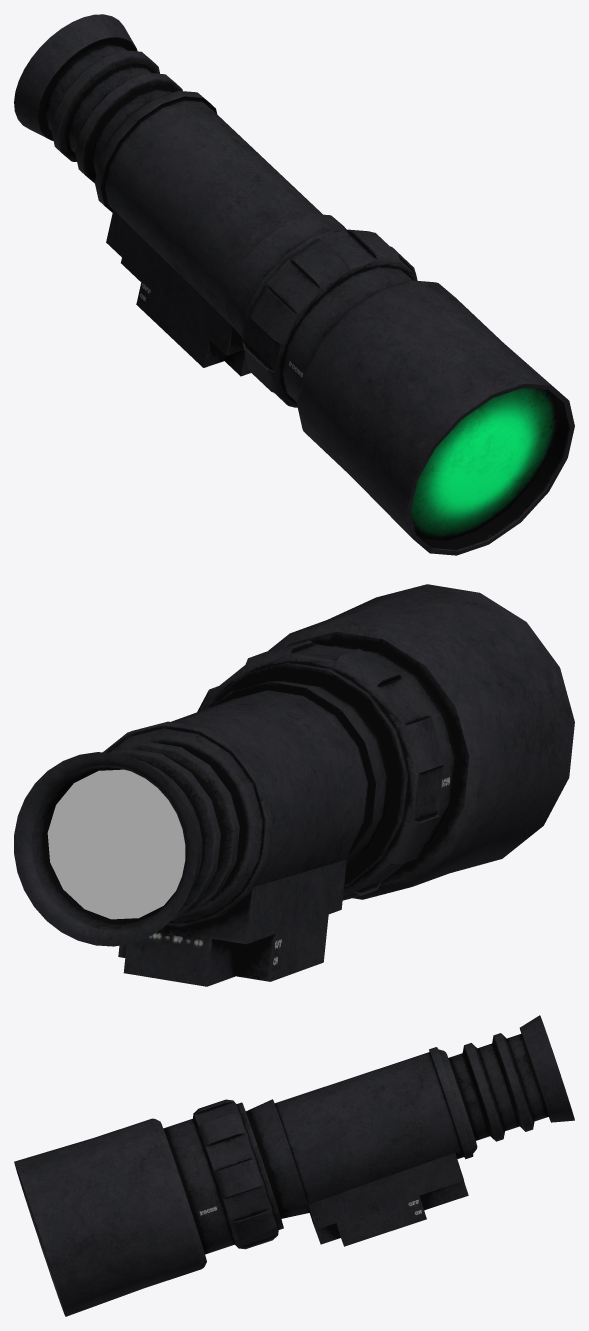
Rendered from nvscope_.fbx.
The picture shows the model from 3 angles, top to bottom: view 1: azimuth 30°, elevation 25°; view 2: azimuth 150°, elevation 25°; view 3: azimuth 270°, elevation 25°; orthographic projection. The views are drawn at different scales.
Visible parts, largest first — view 1: nvscope_low; view 2: nvscope_low; view 3: nvscope_low.
Boxes of the visible parts, x1,y1,x2,y2 form: nvscope_low: [14, 14, 574, 555]; nvscope_low: [14, 584, 574, 986]; nvscope_low: [14, 1015, 574, 1316].
Bounding box in the file's own units: 6.8 × 8.91 × 17.67.
Materials: 2 (1 with a texture image).
